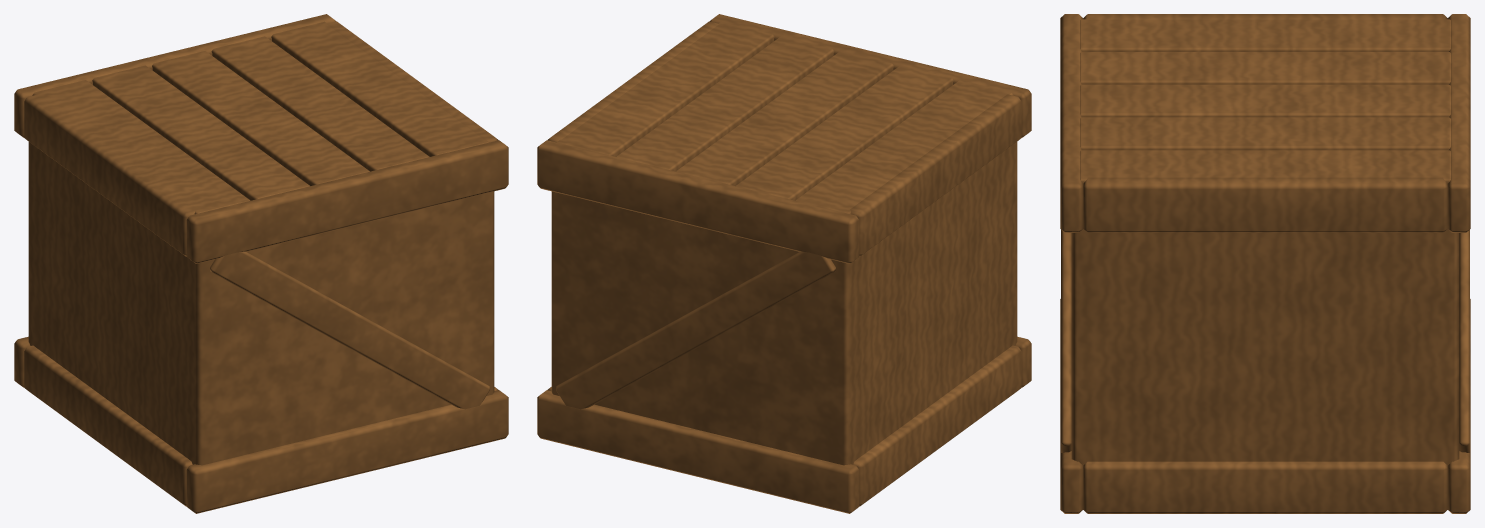
The model's file is Furn_Crate.fbx.
The picture shows the model from 3 angles, left to right: view 1: azimuth 30°, elevation 25°; view 2: azimuth 150°, elevation 25°; view 3: azimuth 270°, elevation 25°; orthographic projection. The views are drawn at different scales.
Parts seen in each view (by area): view 1: Furn_Crate_Mesh; view 2: Furn_Crate_Mesh; view 3: Furn_Crate_Mesh.
Part boxes in pixels (x1,y1,x2,y2): Furn_Crate_Mesh: (14,14,508,513); Furn_Crate_Mesh: (537,14,1031,513); Furn_Crate_Mesh: (1060,14,1470,513).
Bounding box in the file's own units: 0.9 × 0.8 × 0.9.
Materials: 1 (1 with a texture image).
